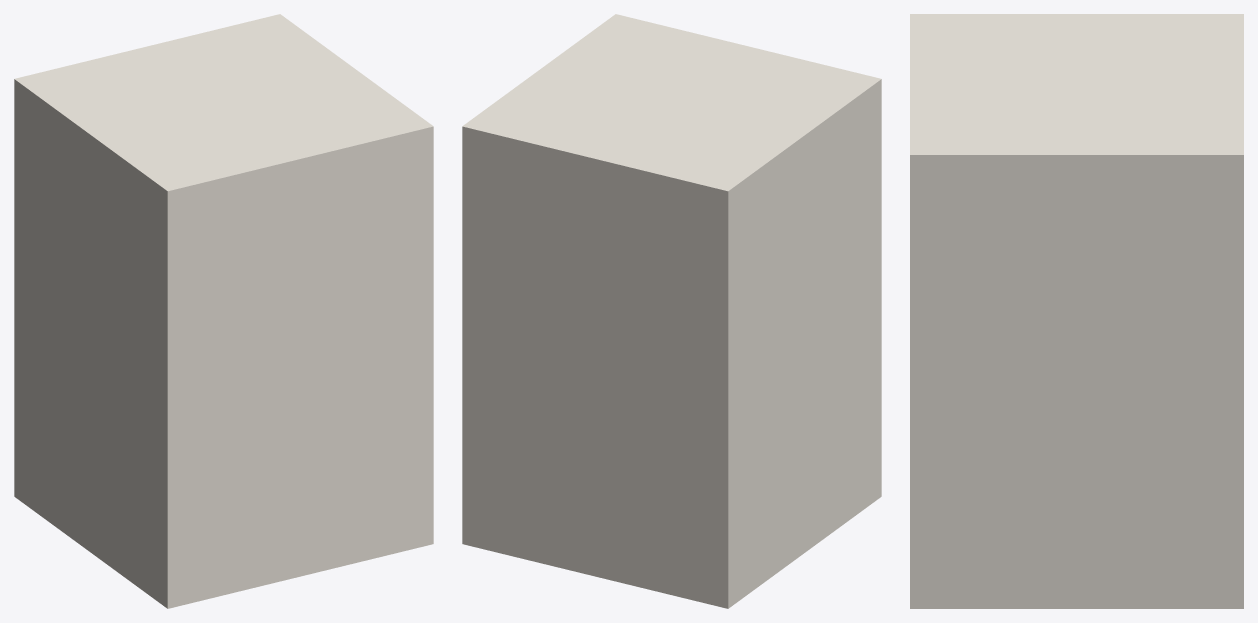
Rendered from snowy_owl__tail.glb.
3 renders of one model, left to right at view 1: azimuth 30°, elevation 25°; view 2: azimuth 150°, elevation 25°; view 3: azimuth 270°, elevation 25°, orthographic. The views are drawn at different scales.
Visible parts, largest first — view 1: snowy_owl__tail; view 2: snowy_owl__tail; view 3: snowy_owl__tail.
Part boxes in pixels (<box>): snowy_owl__tail: <box>14,14,433,608</box>; snowy_owl__tail: <box>462,14,881,608</box>; snowy_owl__tail: <box>910,14,1243,608</box>.
Bounding box in the file's own units: 0.2 × 0.3 × 0.2.
Materials: 1 (1 with a texture image).
